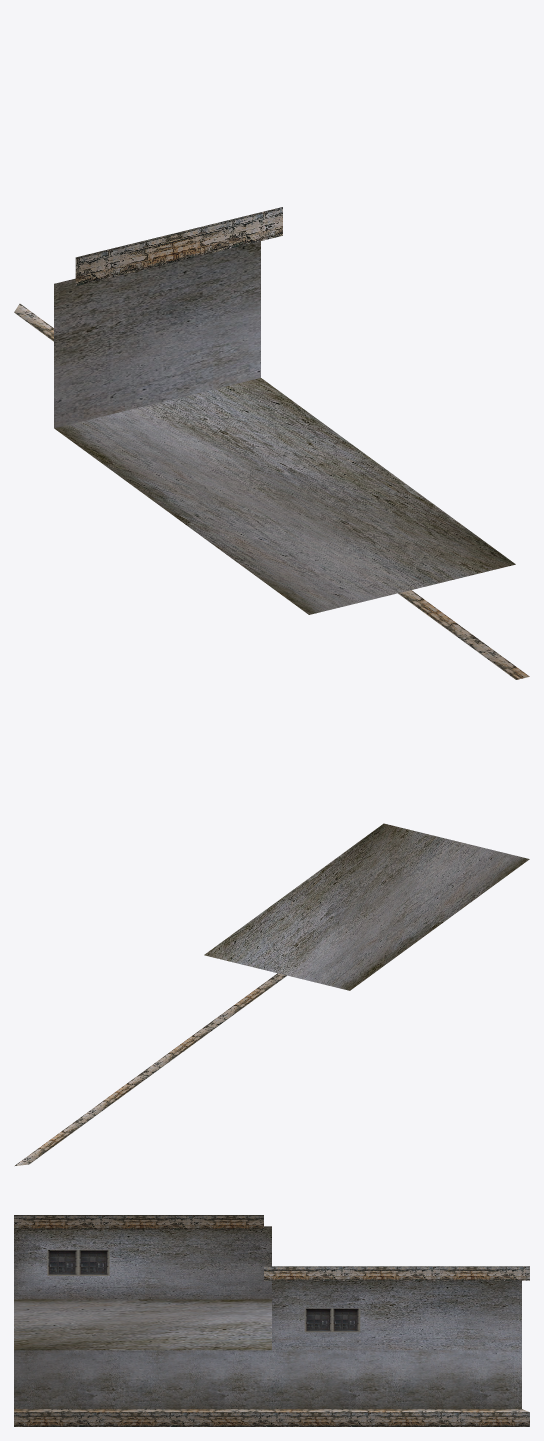
Rendered from M11Z1_Building08_A.glb.
The picture shows the model from 3 angles, top to bottom: view 1: azimuth 30°, elevation 25°; view 2: azimuth 150°, elevation 25°; view 3: azimuth 270°, elevation 25°; orthographic projection. The views are drawn at different scales.
Parts seen in each view (by area): view 1: M11Z1_BUILDING08_A; view 2: M11Z1_BUILDING08_A; view 3: M11Z1_BUILDING08_A.
Boxes of the visible parts, left/top/right/bottom form: M11Z1_BUILDING08_A: left=14, top=207, right=529, bottom=679; M11Z1_BUILDING08_A: left=14, top=823, right=529, bottom=1166; M11Z1_BUILDING08_A: left=14, top=1215, right=529, bottom=1426.
Bounding box in the file's own units: 8 × 11 × 32.
Materials: 3 (3 with a texture image).
